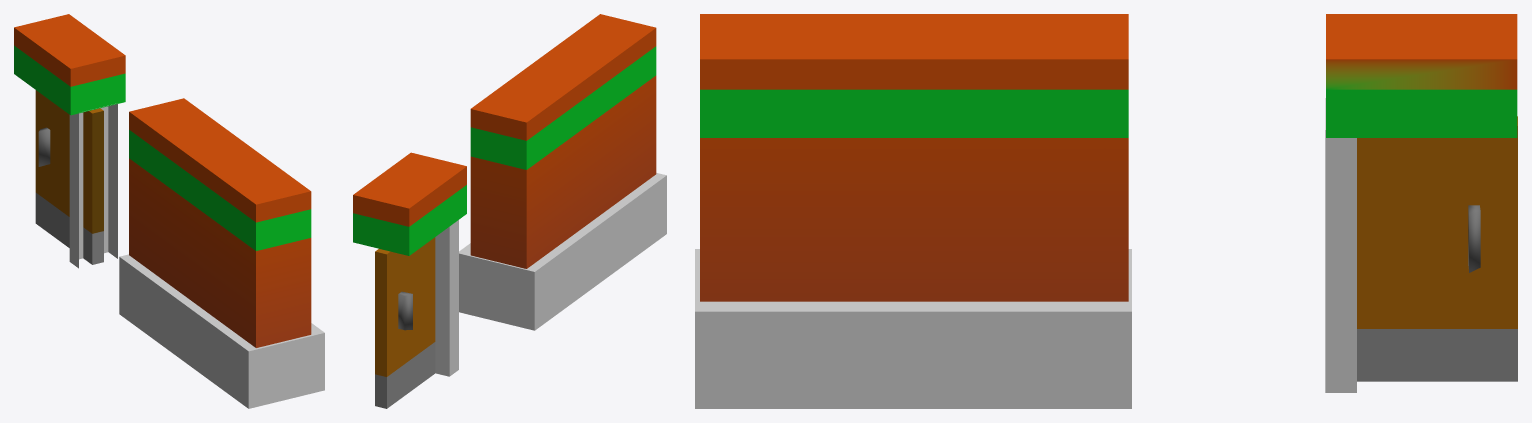
File: wall_asset(1).fbx
3 views of the same model, side by side, from view 1: azimuth 30°, elevation 25°; view 2: azimuth 150°, elevation 25°; view 3: azimuth 270°, elevation 25° (orthographic). The views are drawn at different scales.
Visible parts, largest first — view 1: wall, foundation, wall.001, door_base, door; view 2: wall, foundation, door_base, wall.001, door; view 3: wall, foundation, door_base, wall.001, door.
Boxes of the visible parts, bbox=[...] form: wall: bbox=[129, 98, 311, 347]; foundation: bbox=[119, 254, 324, 408]; wall.001: bbox=[14, 14, 125, 115]; door_base: bbox=[35, 90, 103, 264]; door: bbox=[69, 103, 117, 268]; wall: bbox=[470, 14, 656, 268]; foundation: bbox=[459, 173, 666, 330]; door_base: bbox=[375, 237, 435, 408]; wall.001: bbox=[353, 152, 466, 255]; door: bbox=[435, 220, 458, 376]; wall: bbox=[700, 14, 1128, 301]; foundation: bbox=[695, 249, 1131, 408]; door_base: bbox=[1357, 116, 1517, 381]; wall.001: bbox=[1326, 14, 1517, 137]; door: bbox=[1325, 98, 1356, 392].
Size of the model in its own units: 277 by 700 by 1535.
